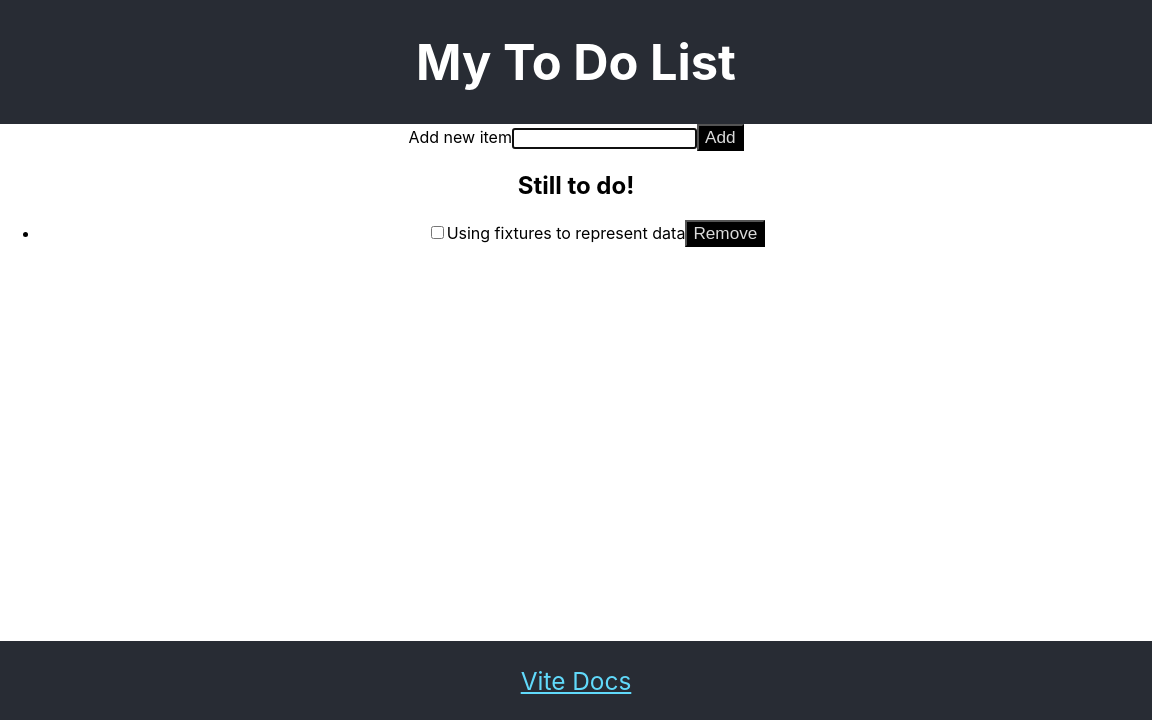
it: Given My To Do app › When loaded › Then I am able to complete a To Do item
The width and height of the screenshot is (1152, 720).
Type "Using fixtures to represent data" into the field with test id "todoText" at (605,139), box [512,128,697,149]
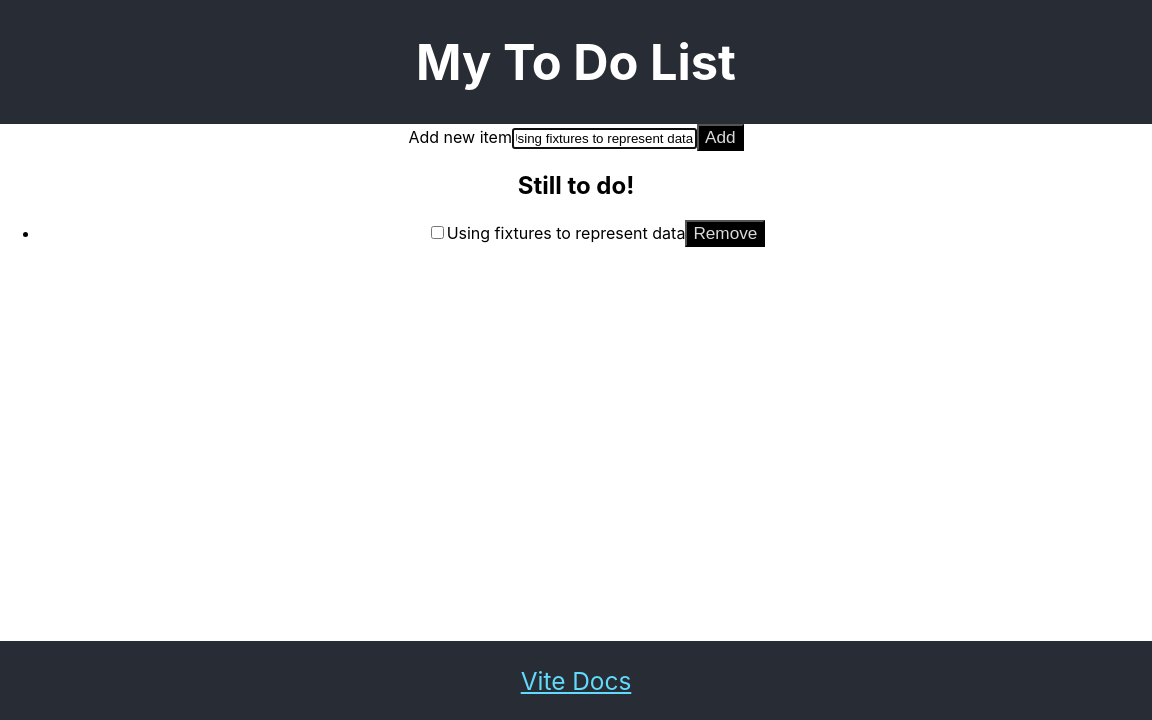
Click the button with test id "addTodo" at (721,138), box [697,124,744,151]
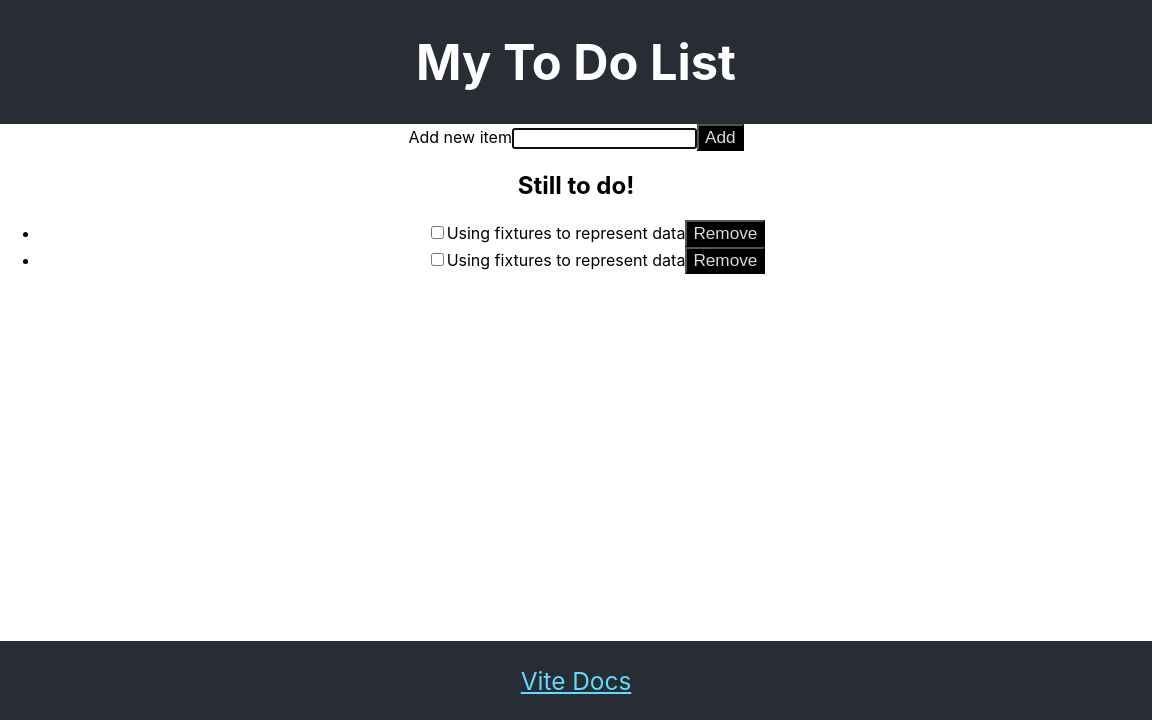
Click the 2nd checkbox with test id "todoItemCheckbox" at (438,260), box [431,253,444,266]
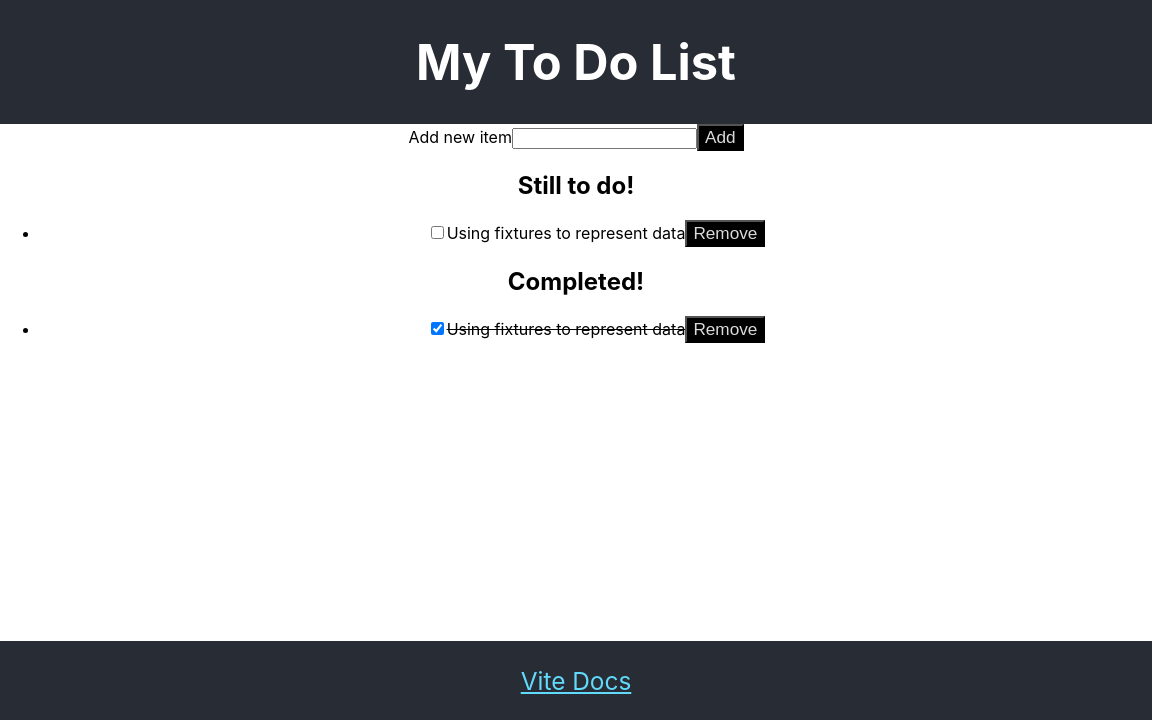
Now the checkbox with test id "todoItemCheckbox" below "Completed!" is checked, box [431,322,444,335]
